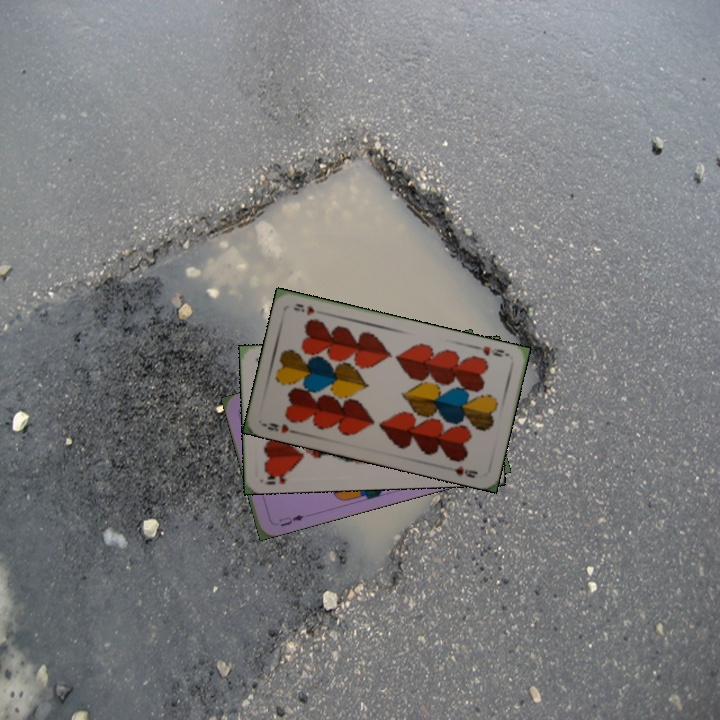EU: (270, 511, 307, 529)
H9: (264, 419, 300, 436), (472, 342, 507, 359)
HO: (260, 468, 290, 487)
